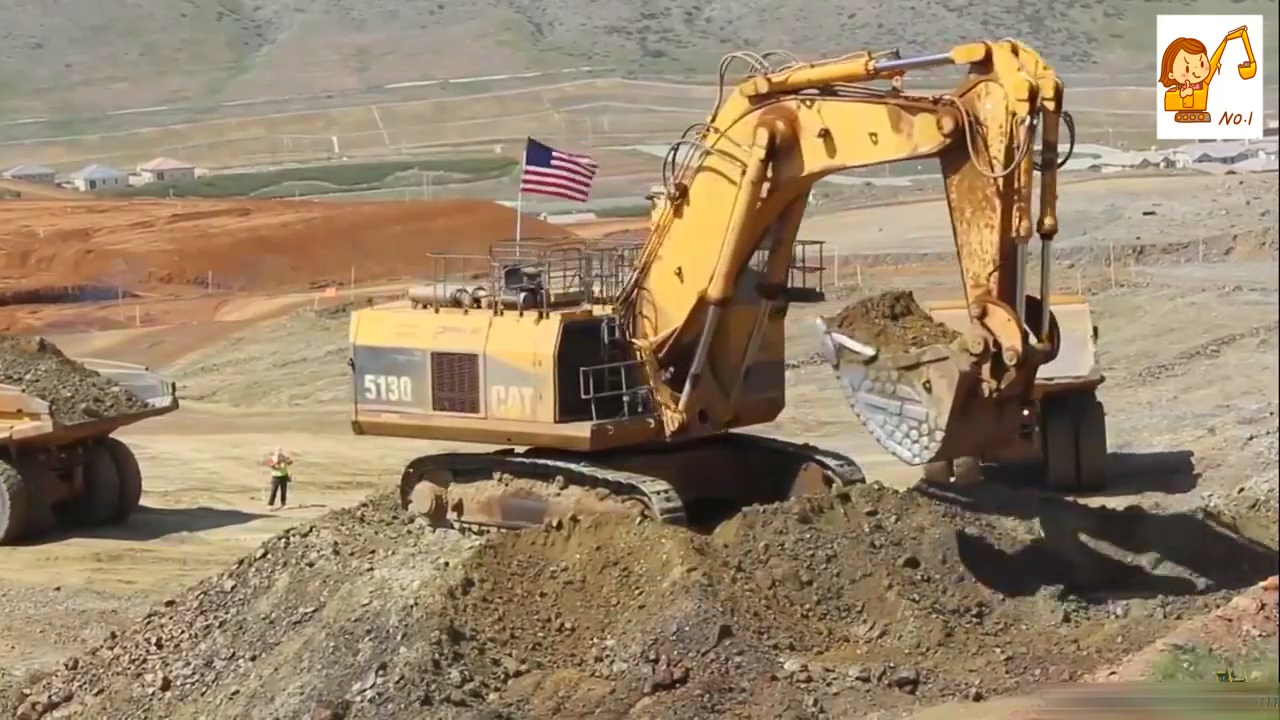excavator: (333, 23, 1103, 543)
